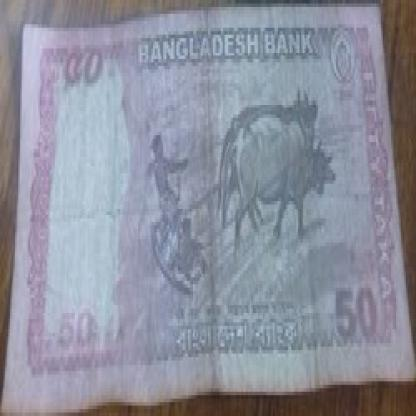Fifty taka: (315, 277, 391, 350), (58, 35, 118, 108)
